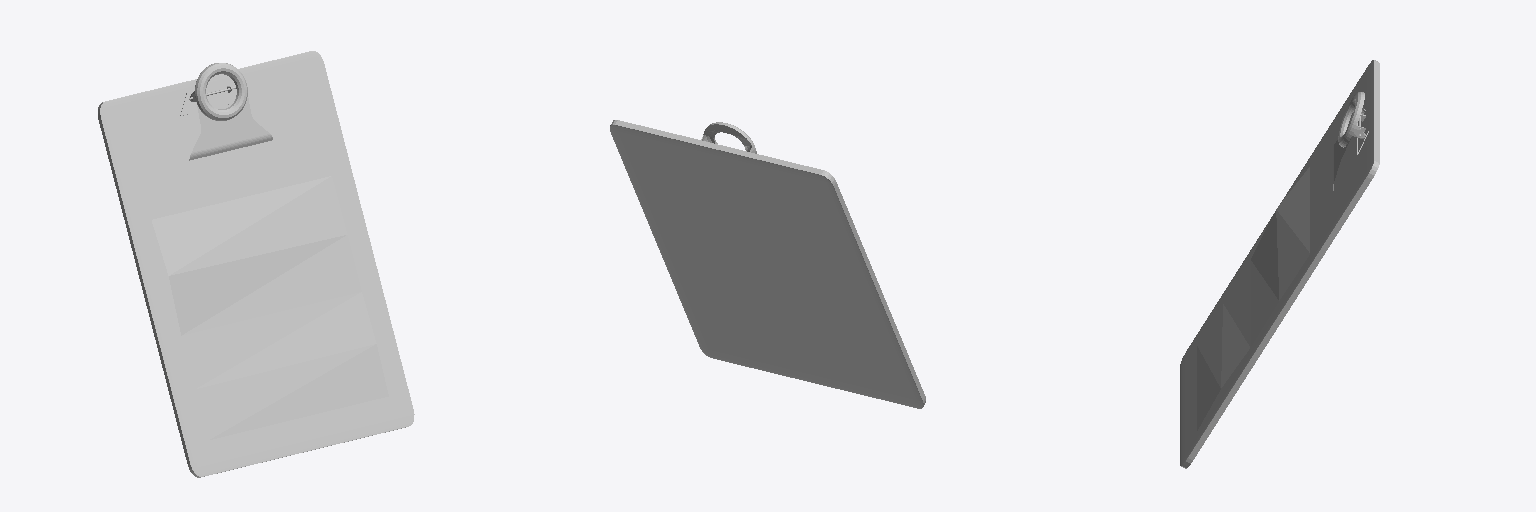
Rendered from clipboard.obj.
3 renders of one model, left to right at view 1: azimuth 30°, elevation 25°; view 2: azimuth 150°, elevation 25°; view 3: azimuth 270°, elevation 25°, orthographic.
Visible parts, largest first — view 1: Clipboard; view 2: Clipboard; view 3: Clipboard.
Boxes of the visible parts, x1=… form: Clipboard: x1=98, y1=51, x2=414, y2=477; Clipboard: x1=610, y1=120, x2=925, y2=408; Clipboard: x1=1180, y1=60, x2=1379, y2=468.
Size of the model in its own units: 0.8475 by 1.18 by 0.6557.